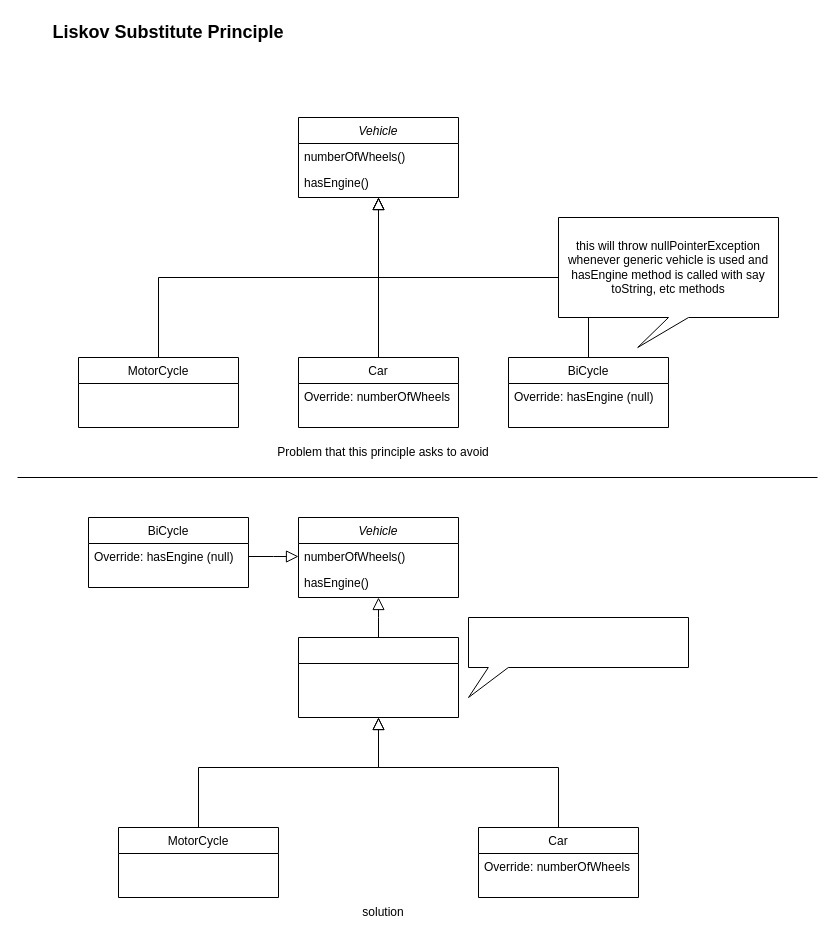
Some shapes in this 836 by 944 pixel diagram are drawn without their labels. The box of each missing label's shape, as (x1, y1, x2, y2) in pixels:
EnginedVehicle: (298, 636, 458, 718)
we created a new interface to resolve this problem.: (468, 616, 688, 698)
